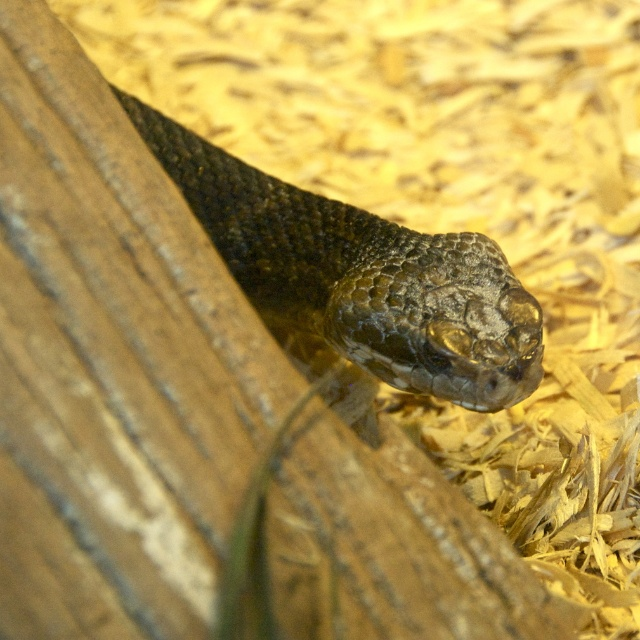Snake: (102, 77, 547, 409)
